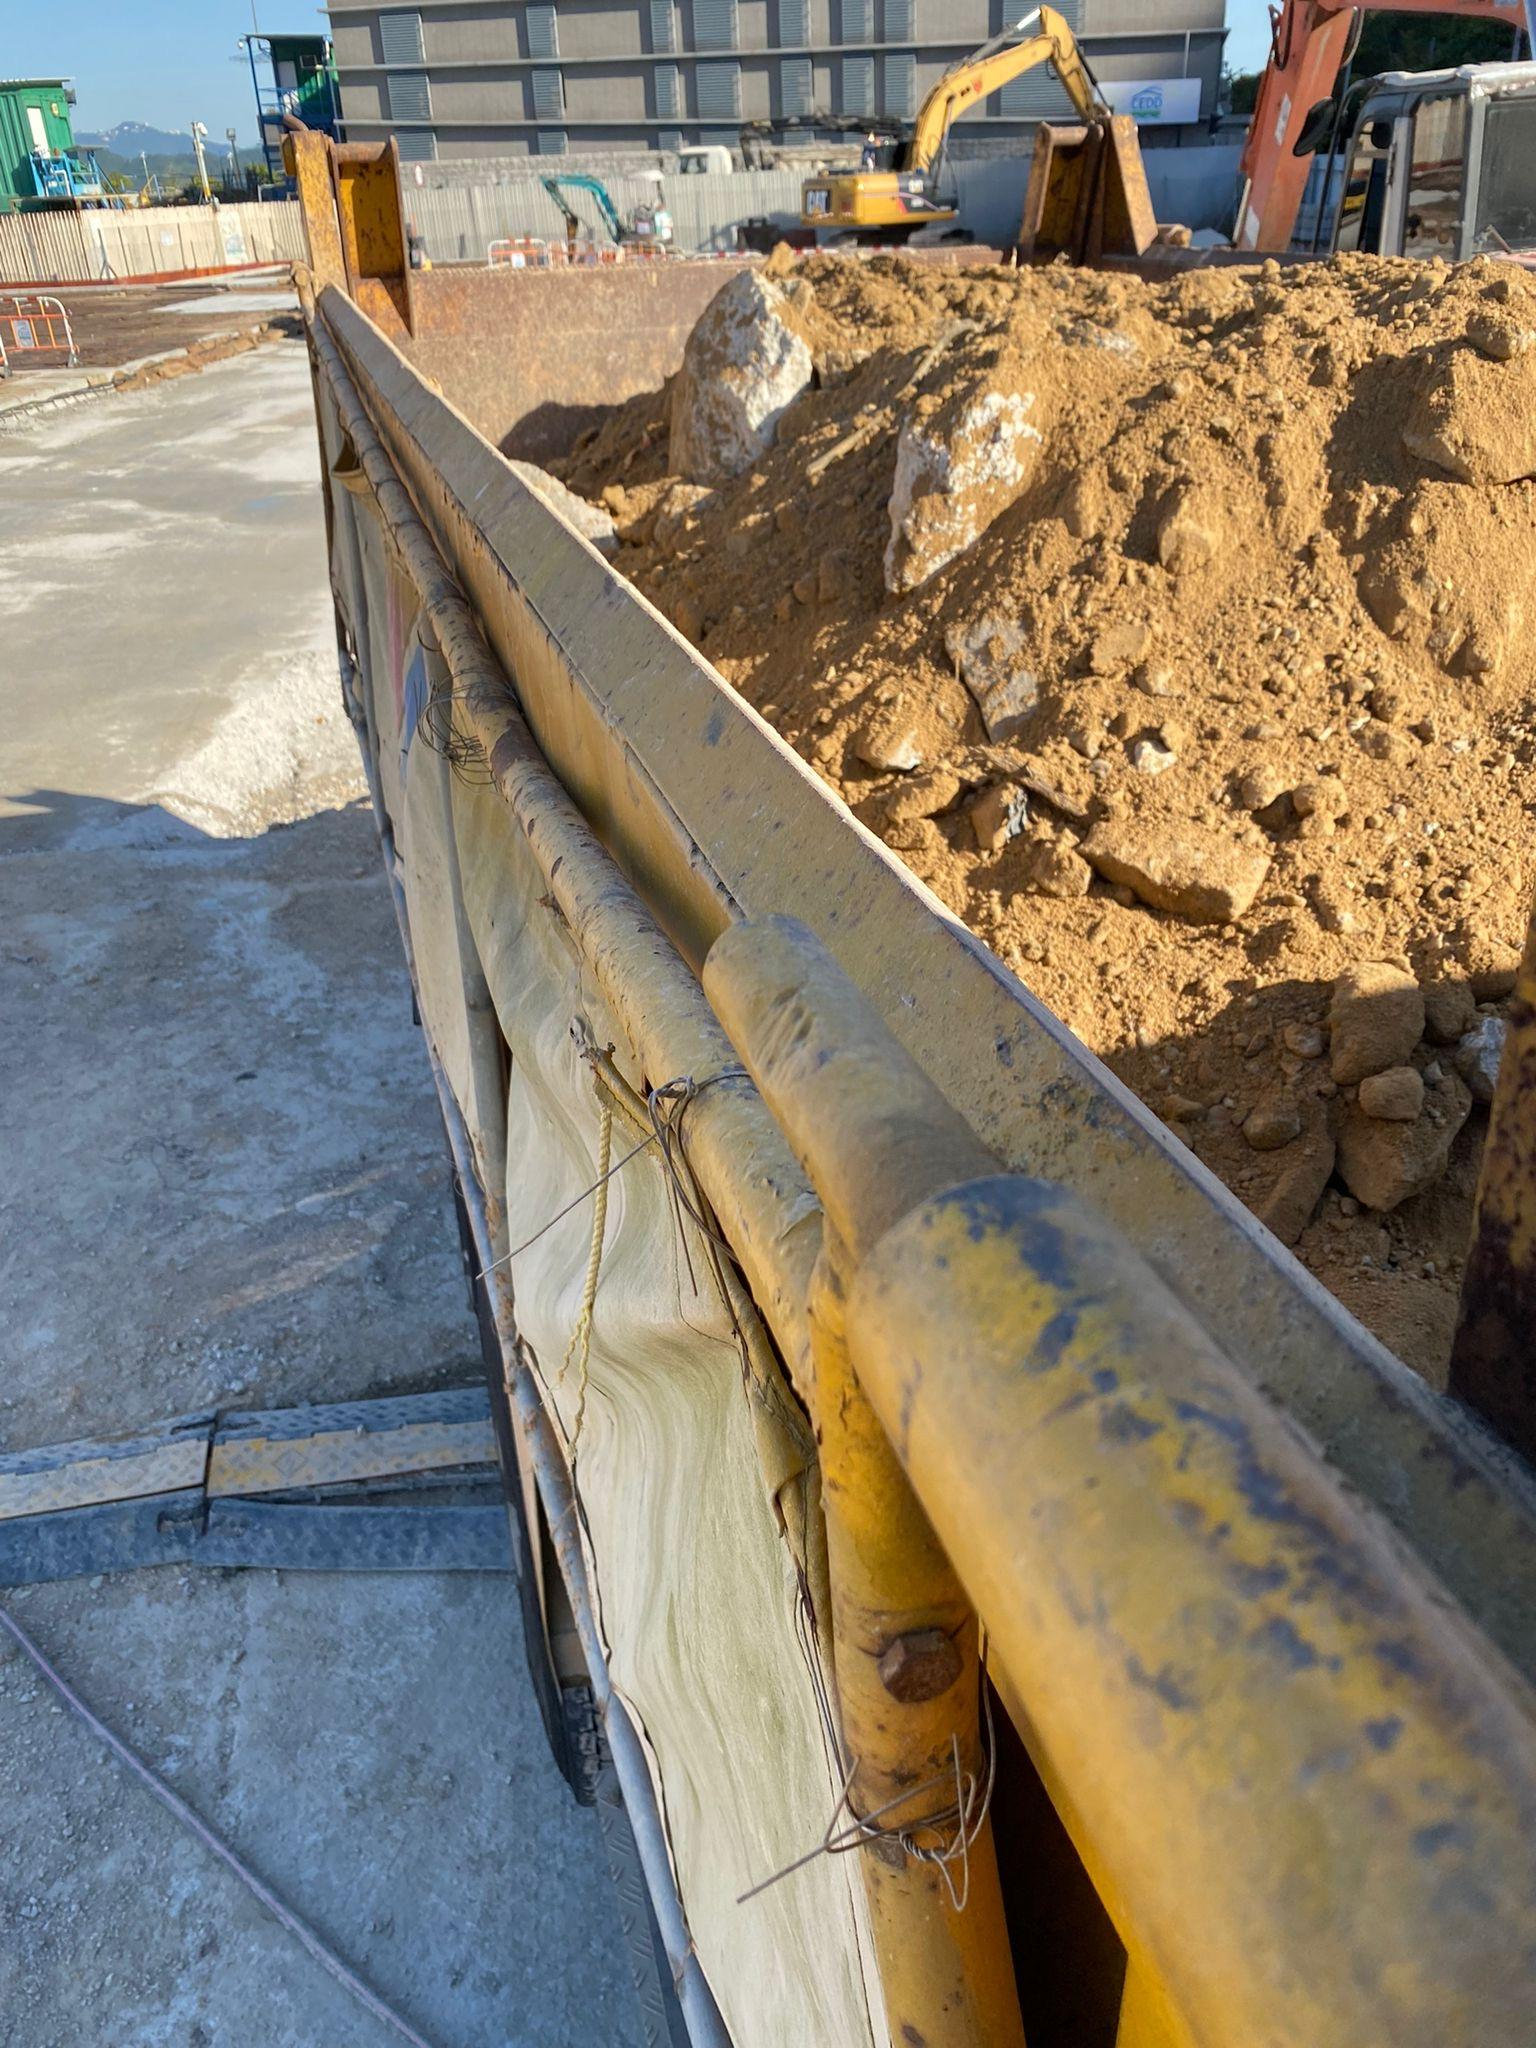dry: (553, 260, 1533, 1447)
